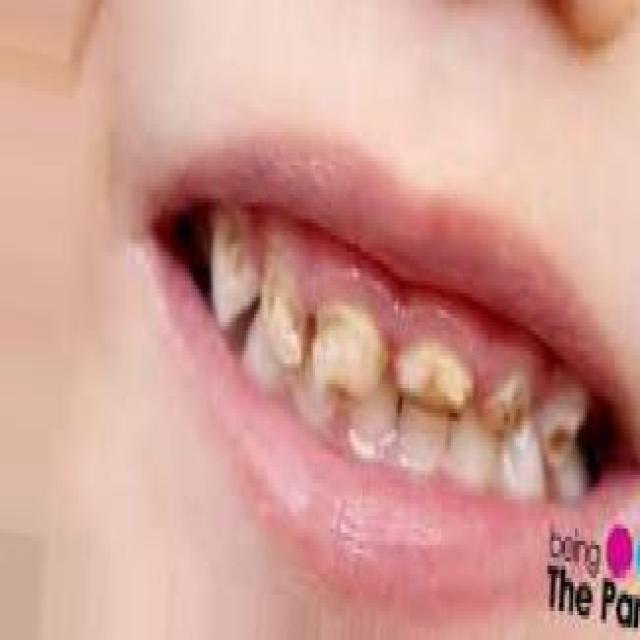caries: (311, 297, 386, 407), (396, 336, 480, 423), (262, 256, 308, 372), (485, 370, 539, 454), (209, 210, 255, 294), (543, 399, 578, 476)
